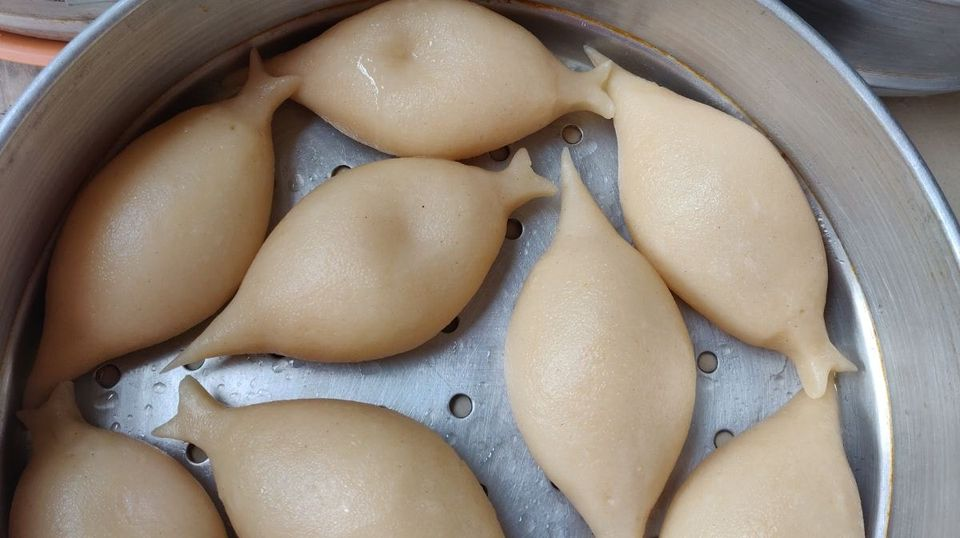yomari: (71, 43, 306, 319), (236, 146, 553, 340), (668, 114, 880, 380), (155, 372, 485, 538), (535, 145, 660, 537), (314, 2, 620, 149), (0, 368, 152, 538)
